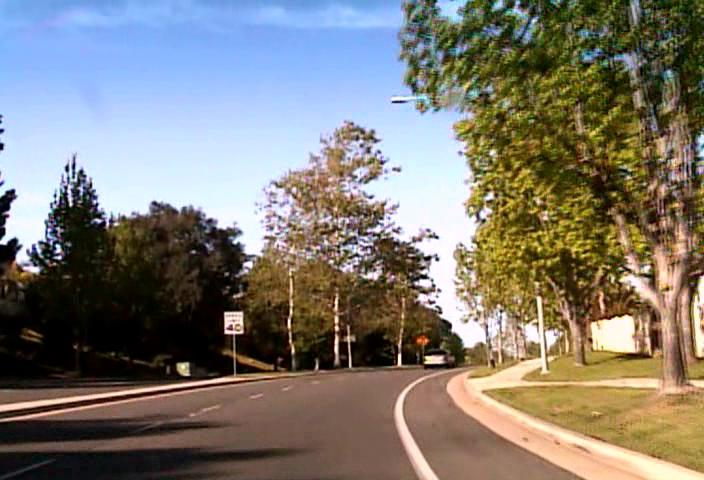speedLimit40: (223, 311, 243, 334)
